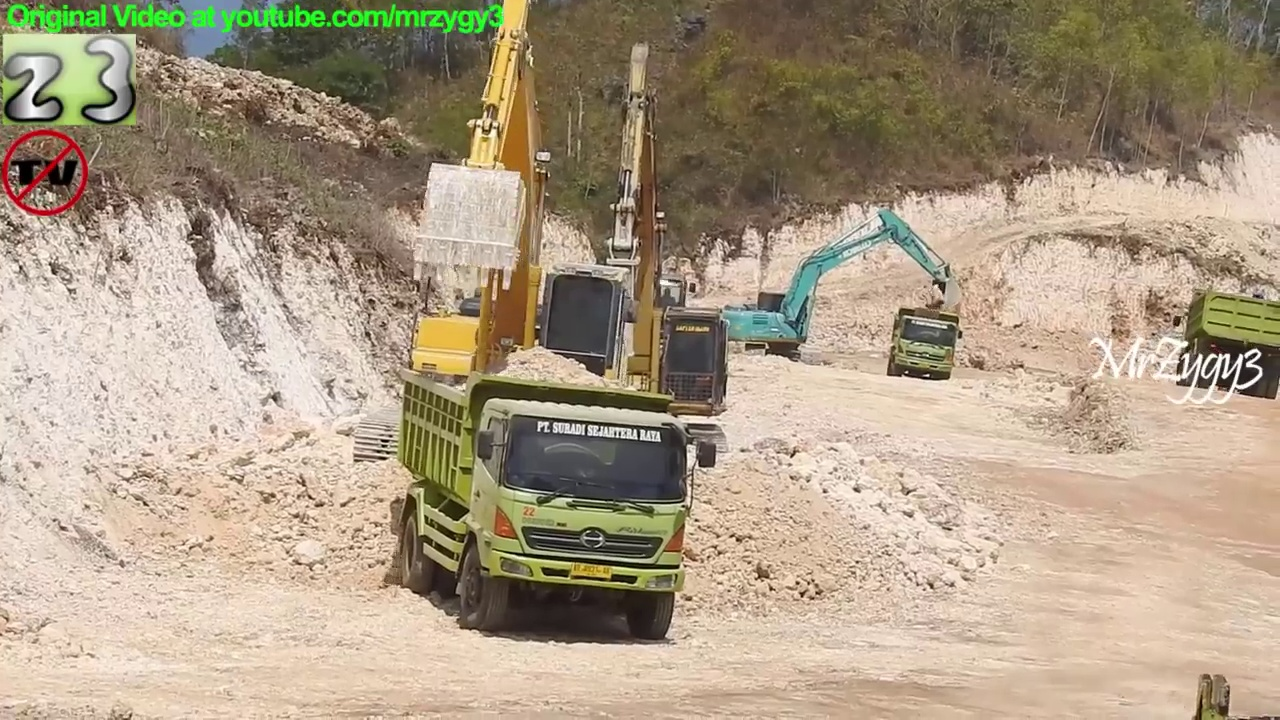excavator: (348, 5, 657, 485), (475, 34, 729, 478), (719, 203, 965, 358)
truck: (391, 345, 720, 650), (1175, 281, 1280, 416), (889, 305, 962, 382)
